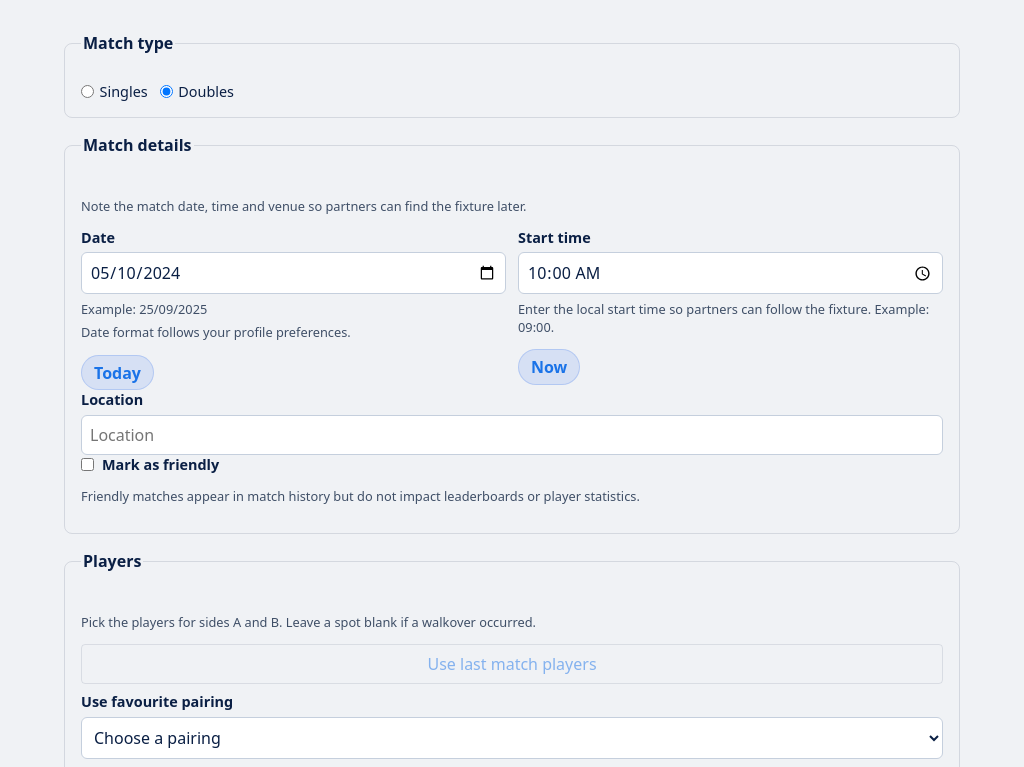
Test: RecordSportForm › defaults to today's date and the rounded current time slot
Expected: the time field labelled "Start time" holds "10:00", [518,252,943,294]
In the date field labelled "Date": x=294, y=273 [81,252,506,294], type "2024-05-11"
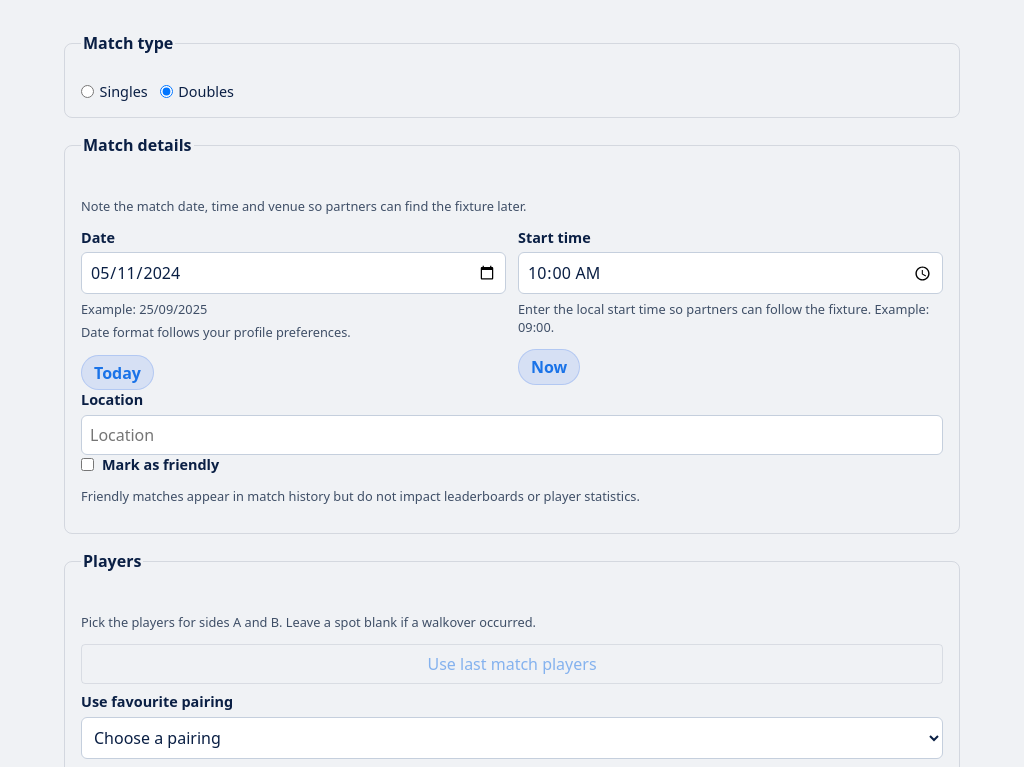
Replace the text in the time field labelled "Start time" with "12:30": x=730, y=273 [518,252,943,294]
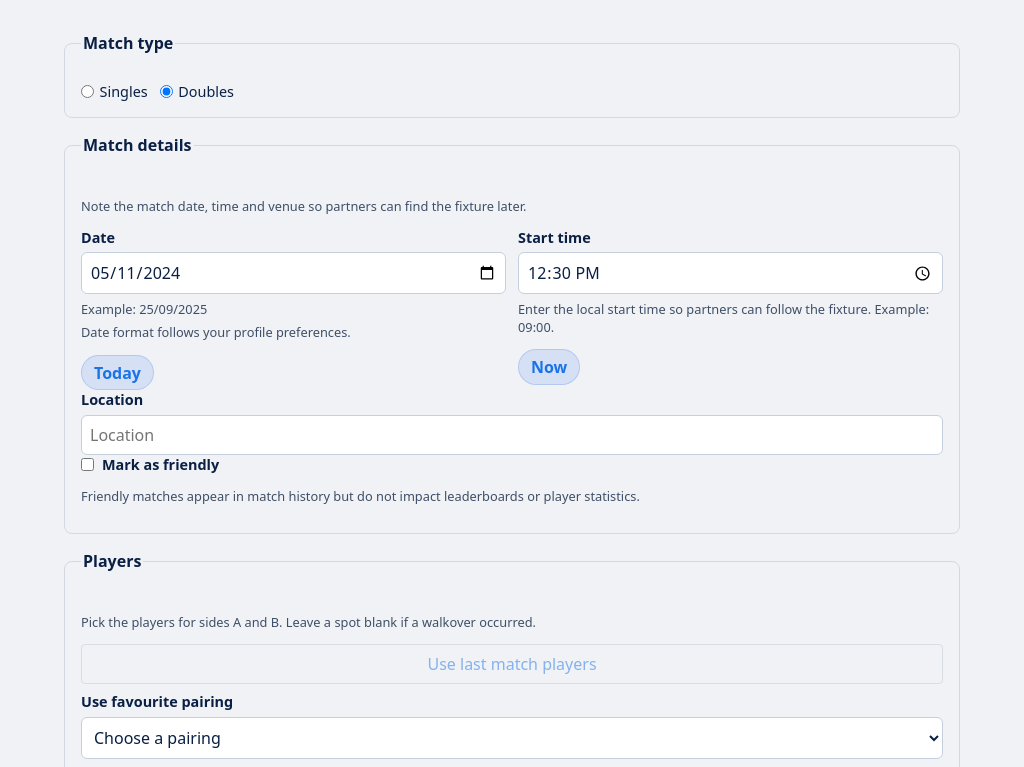
Click the button "Today": x=118, y=373 [81,355,154,390]
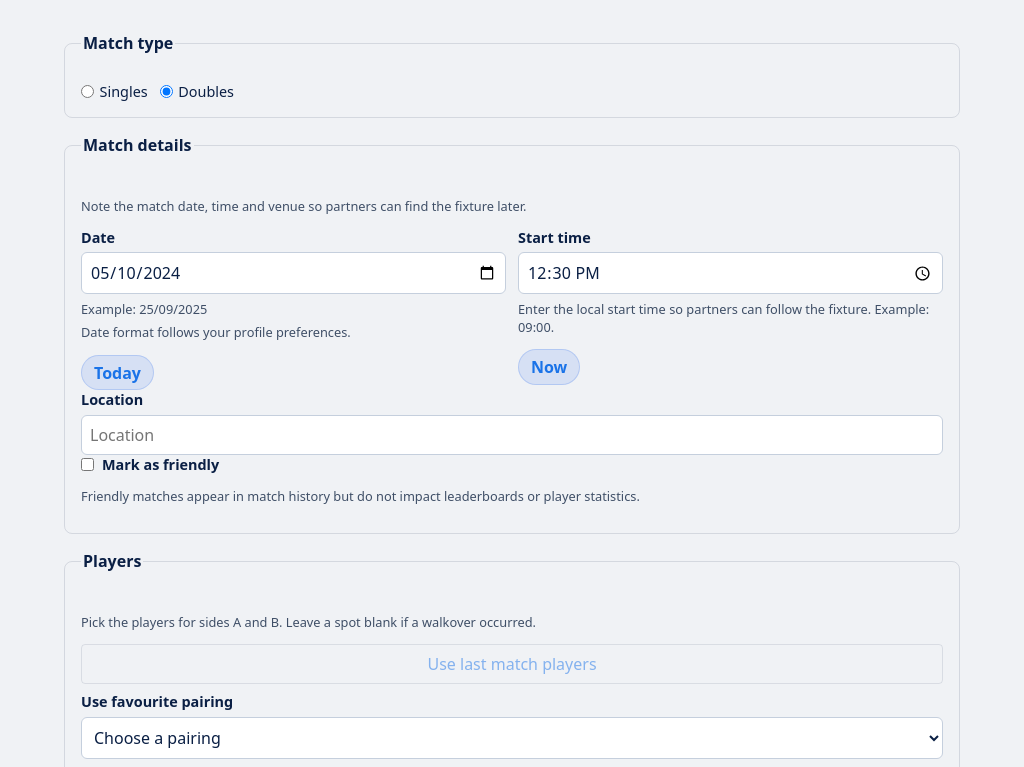
Click the button "Now": x=549, y=367 [518,349,580,385]
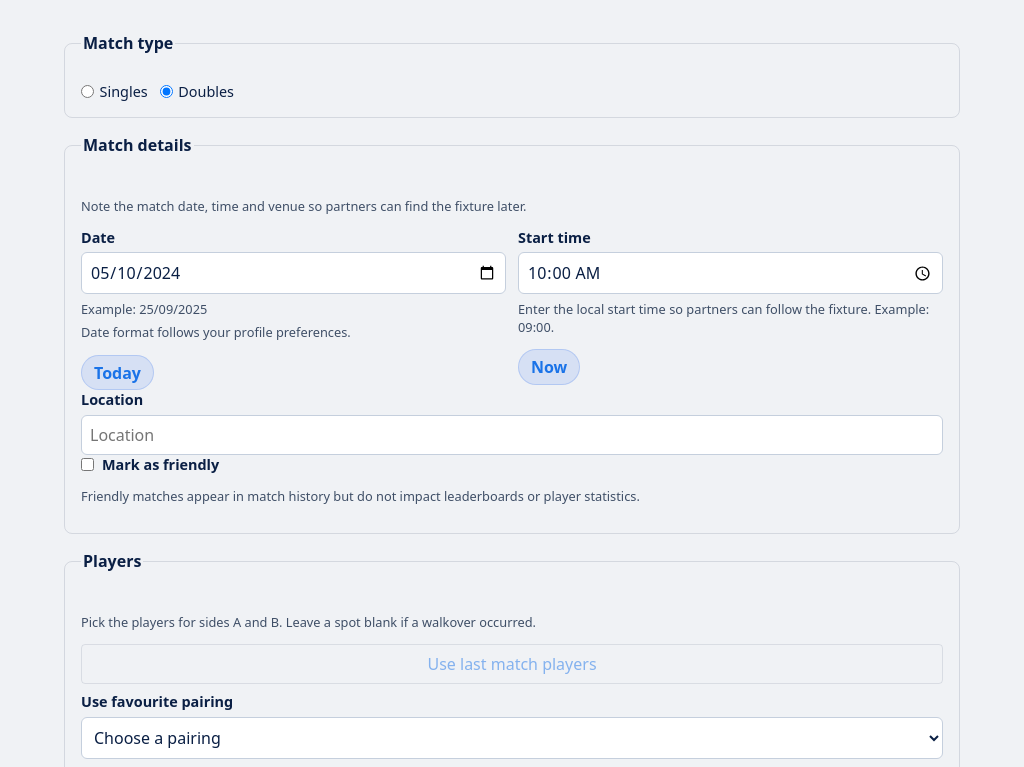
Expected: the date field labelled "Date" holds "2024-05-10", [81,252,506,294]
Expected: the time field labelled "Start time" holds "10:00", [518,252,943,294]
